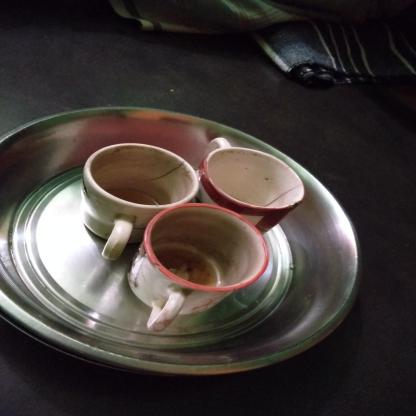cup: (141, 200, 273, 336), (79, 142, 205, 266), (199, 137, 308, 243)
